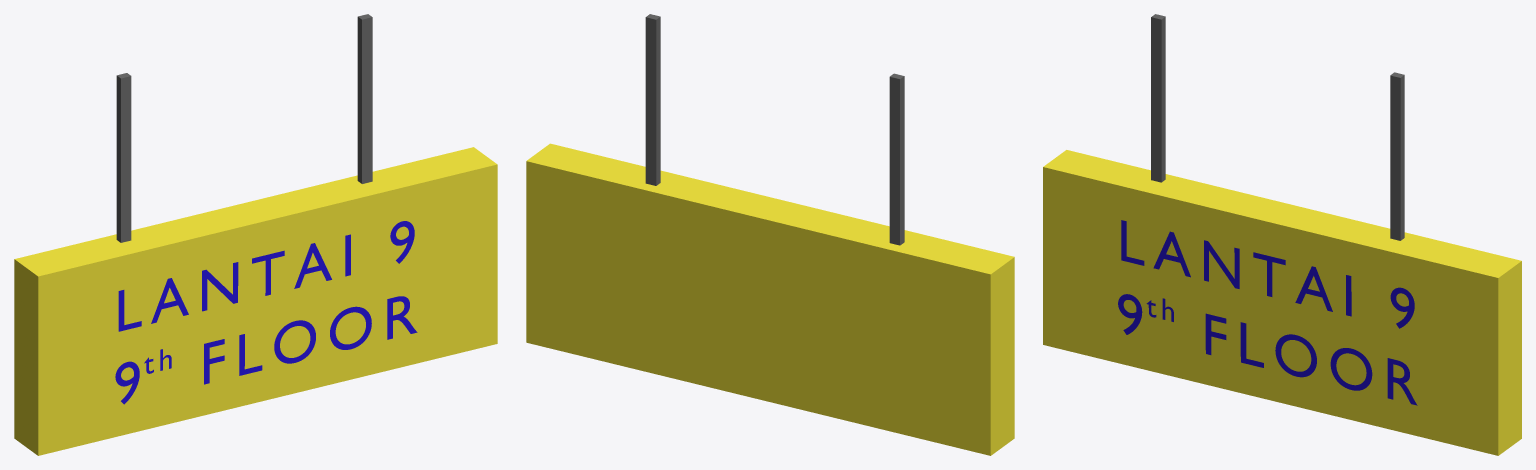
File: Nama Lantai 9.fbx
The picture shows the model from 3 angles, left to right: view 1: azimuth 30°, elevation 25°; view 2: azimuth 150°, elevation 25°; view 3: azimuth 330°, elevation 25°; orthographic projection. The views are drawn at different scales.
Visible parts, largest first — view 1: Cube, Text, Text.001, Cube.001, Cube.002; view 2: Cube, Cube.002, Cube.001; view 3: Cube, Text.001, Text, Cube.001, Cube.002.
Part boxes in pixels (<box>): Cube: <box>14,147,497,455</box>; Text: <box>118,221,414,331</box>; Text.001: <box>115,296,417,404</box>; Cube.001: <box>116,73,131,242</box>; Cube.002: <box>357,14,372,183</box>; Cube: <box>526,143,1014,455</box>; Cube.002: <box>645,14,660,185</box>; Cube.001: <box>889,73,904,245</box>; Cube: <box>1043,150,1521,455</box>; Text.001: <box>1118,294,1417,405</box>; Text: <box>1121,220,1414,328</box>; Cube.001: <box>1151,14,1165,182</box>; Cube.002: <box>1390,72,1404,240</box>.
Bounding box in the file's own units: 296 × 212 × 27.44.
